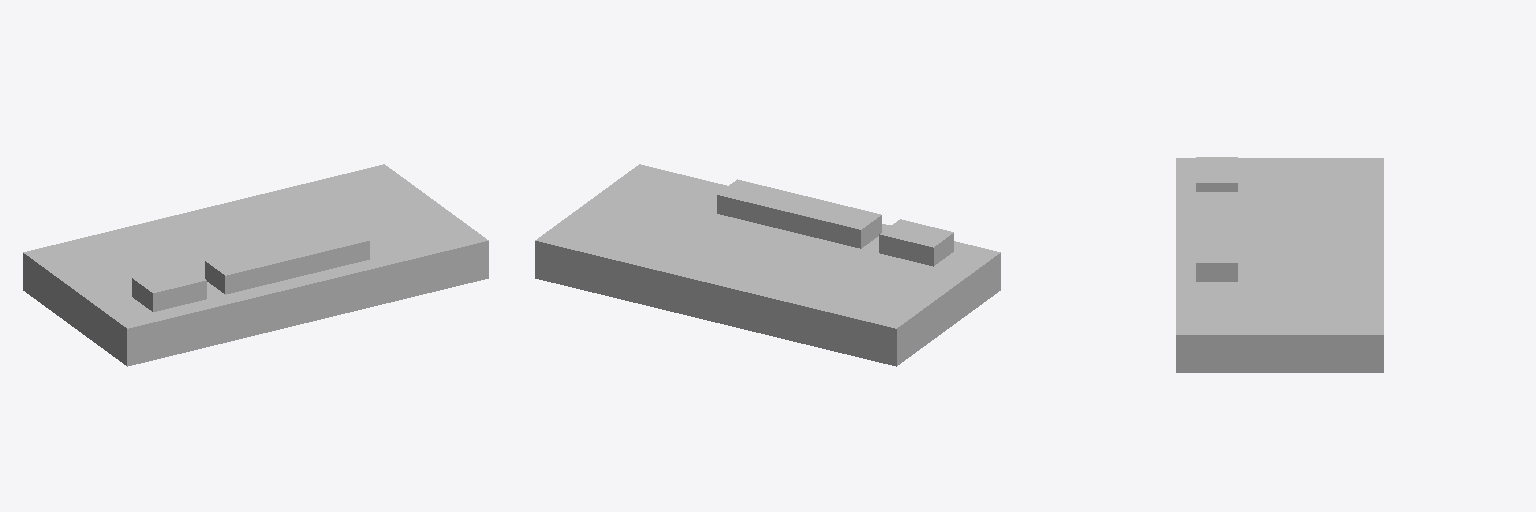
File: Spind-Lock.obj
3 renders of one model, left to right at view 1: azimuth 30°, elevation 25°; view 2: azimuth 150°, elevation 25°; view 3: azimuth 270°, elevation 25°, orthographic.
Visible parts, largest first — view 1: object 1; view 2: object 1; view 3: object 1.
Boxes of the visible parts, box(x1,y1,x2,y2) form: object 1: box(23, 164, 488, 366); object 1: box(535, 164, 1000, 366); object 1: box(1176, 157, 1383, 372).
Bounding box in the file's own units: 2 × 0.3 × 1.